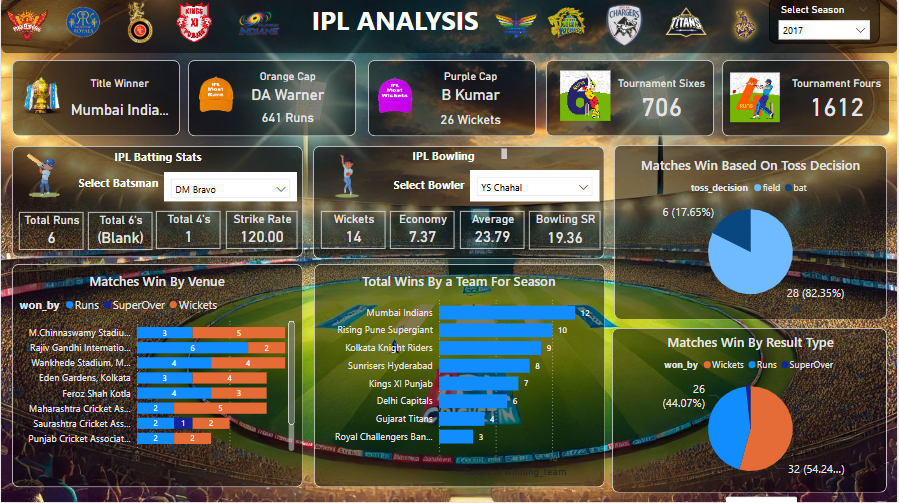

This screenshot's page, from the dashboard's own definition file:
{"tool":"powerbi","page":{"name":"Page 1","canvas":[1280,720],"ordinal":0},"visuals":[{"type":"shape","box":[0,0,1281.3,79.4],"z":0},{"type":"shape","box":[15,88.3,240,108.3],"z":1000},{"type":"textbox","box":[423.8,0,277.8,62.4],"z":2000},{"type":"slicer","fields":{"Values":["Calender Table.Year"]},"box":[1097.8,0,157.8,65],"z":3000},{"type":"card","title":"Title Winner","fields":{"Values":["ipl_matches_2008_2022.Title Winner"]},"box":[95,112,150.2,76.5],"z":4000},{"type":"shape","box":[267,88,240,108.9],"z":5000},{"type":"shape","box":[523.6,88,240,108.9],"z":6000},{"type":"shape","box":[778.7,88,240,108.9],"z":7000},{"type":"shape","box":[1029.4,88,240,108.9],"z":8000},{"type":"card","title":"Orange Cap","fields":{"Values":["Min(ipl_ball_by_ball_2008_2022.batter)"]},"box":[334.5,102,150.2,55.3],"z":9000},{"type":"card","title":"Orange Cap","fields":{"Values":["ipl_ball_by_ball_2008_2022.Batter Runes"]},"box":[333.9,152.1,150.3,40.8],"z":10000},{"type":"card","title":"Purple Cap","fields":{"Values":["Min(ipl_ball_by_ball_2008_2022.bowler)"]},"box":[595.3,102,150.2,55.3],"z":11000},{"type":"card","title":"Purple Cap","fields":{"Values":["ipl_ball_by_ball_2008_2022.Bowler Wickets"]},"box":[595.5,152.1,150.3,46.4],"z":12000},{"type":"card","title":"Tournament Sixes","fields":{"Values":["CountNonNull(ipl_ball_by_ball_2008_2022.batsman_run)"]},"box":[868.2,111.3,150.3,64.9],"z":13000},{"type":"card","title":"Tournament Fours","fields":{"Values":["CountNonNull(ipl_ball_by_ball_2008_2022.batsman_run)"]},"box":[1118.6,111.3,150.3,64.9],"z":14000},{"type":"shape","box":[15.6,211.1,415.6,158.9],"z":15000},{"type":"shape","box":[446.1,211.8,416.2,161.1],"z":16000},{"type":"slicer","fields":{"Values":["ipl_ball_by_ball_2008_2022.batter"]},"box":[233.3,248.9,190,42.2],"z":17000},{"type":"card","title":"Total Runs","fields":{"Values":["Sum(ipl_ball_by_ball_2008_2022.batsman_run)"]},"box":[25.4,305.8,92.5,53.7],"z":18000},{"type":"card","title":"Total 6''s","fields":{"Values":["CountNonNull(ipl_ball_by_ball_2008_2022.batsman_run)"]},"box":[123.8,305.8,92.5,53.7],"z":19000},{"type":"card","title":"Total 4''s","fields":{"Values":["CountNonNull(ipl_ball_by_ball_2008_2022.batsman_run)"]},"box":[221.7,304,92.4,53.8],"z":20000},{"type":"card","title":"Strike Rate","fields":{"Values":["ipl_ball_by_ball_2008_2022.Strike Rate for Batsman"]},"box":[321.1,304.4,102.2,54.4],"z":21000},{"type":"textbox","box":[100.8,248.6,132.7,42],"z":22000},{"type":"textbox","box":[134.4,211.7,179.7,31.9],"z":23000},{"type":"slicer","fields":{"Values":["ipl_ball_by_ball_2008_2022.bowler"]},"box":[670.2,245.2,184.8,45.4],"z":24000},{"type":"card","title":"Wickets","fields":{"Values":["Sum(ipl_ball_by_ball_2008_2022.iswicket_delivery)"]},"box":[456.9,304,92.4,53.8],"z":25000},{"type":"card","title":"Economy","fields":{"Values":["ipl_ball_by_ball_2008_2022.Economy"]},"box":[556,304,92.4,53.8],"z":26000},{"type":"card","title":"Average","fields":{"Values":["ipl_ball_by_ball_2008_2022.Average"]},"box":[655.1,304,92.4,53.8],"z":27000},{"type":"card","title":"Bowling SR","fields":{"Values":["ipl_ball_by_ball_2008_2022.Bowling SR"]},"box":[754.2,304,102.5,55.4],"z":28000},{"type":"textbox","box":[556,252,127.7,35.3],"z":29000},{"type":"textbox","box":[582.5,209.8,144.6,34],"z":30000},{"type":"shape","box":[875.9,209.8,389.8,249.4],"z":31000},{"type":"pieChart","title":"Matches Win Based On Toss Decision","fields":{"Y":["ipl_matches_2008_2022.Matches Win On Toss Decision"],"Category":["ipl_matches_2008_2022.toss_decision"]},"box":[883,225.4,375.6,220],"z":32000},{"type":"shape","box":[873.1,472,392.6,235.3],"z":33000},{"type":"pieChart","title":"Matches Win By Result Type","fields":{"Y":["CountNonNull(ipl_matches_2008_2022.id)"],"Category":["ipl_matches_2008_2022.won_by"]},"box":[883,479.1,375.6,219.7],"z":34000},{"type":"shape","box":[15.6,379.8,415.3,318.9],"z":35000},{"type":"barChart","title":"Matches Win By Venue","fields":{"Category":["ipl_matches_2008_2022.venue"],"Y":["CountNonNull(ipl_matches_2008_2022.id)"],"Series":["ipl_matches_2008_2022.won_by"]},"box":[21.3,391.2,402.5,297.6],"z":36000},{"type":"shape","box":[446.5,379.8,415.3,318.9],"z":37000},{"type":"barChart","title":"Total Wins By a Team For Season","fields":{"Category":["ipl_matches_2008_2022.winning_team"],"Y":["CountNonNull(ipl_matches_2008_2022.winning_team)"]},"box":[453.5,391.2,402.5,297.6],"z":38000},{"type":"image","box":[15.6,87.9,87.9,104.9],"z":39000},{"type":"image","box":[276.4,85,64,104],"z":40000},{"type":"image","box":[531.5,86.5,63.8,103.5],"z":41000},{"type":"image","box":[785.2,99.2,97.8,82.2],"z":42000},{"type":"image","box":[1029,102,96.4,80.8],"z":43000},{"type":"image","box":[5.7,198.4,110,110],"z":44000},{"type":"image","box":[439.4,199.8,109.1,109.1],"z":45000},{"type":"image","box":[772.4,0,70,70],"z":46000},{"type":"image","box":[856.1,4.3,69.4,69.4],"z":47000},{"type":"image","box":[943.9,0,69.4,69.4],"z":48000},{"type":"image","box":[1029,4.3,69.4,69.4],"z":49000},{"type":"image","box":[701.6,4.3,69.4,69.4],"z":50000},{"type":"image","box":[334.5,0,69.4,69.4],"z":51000},{"type":"image","box":[240.9,0,69.4,69.4],"z":52000},{"type":"image","box":[164.4,0,69.4,69.4],"z":53000},{"type":"image","box":[80.8,0,69.4,69.4],"z":54000},{"type":"image","box":[2.8,4.3,69.4,69.4],"z":55000}]}

Visuals, with their boxes in screenshot pixels (x1, y1, x2, y2), scaled from the page's 1280x720 canvas onto the 899x503 screenshot:
shape: {"x1": 0, "y1": 0, "x2": 898, "y2": 55}
shape: {"x1": 11, "y1": 62, "x2": 179, "y2": 137}
textbox: {"x1": 298, "y1": 0, "x2": 493, "y2": 44}
slicer - Calender Table.Year: {"x1": 771, "y1": 0, "x2": 882, "y2": 45}
"Title Winner" card: {"x1": 67, "y1": 78, "x2": 172, "y2": 132}
shape: {"x1": 188, "y1": 61, "x2": 356, "y2": 138}
shape: {"x1": 368, "y1": 61, "x2": 536, "y2": 138}
shape: {"x1": 547, "y1": 61, "x2": 715, "y2": 138}
shape: {"x1": 723, "y1": 61, "x2": 892, "y2": 138}
"Orange Cap" card: {"x1": 235, "y1": 71, "x2": 340, "y2": 110}
"Orange Cap" card: {"x1": 235, "y1": 106, "x2": 340, "y2": 135}
"Purple Cap" card: {"x1": 418, "y1": 71, "x2": 524, "y2": 110}
"Purple Cap" card: {"x1": 418, "y1": 106, "x2": 524, "y2": 139}
"Tournament Sixes" card: {"x1": 610, "y1": 78, "x2": 715, "y2": 123}
"Tournament Fours" card: {"x1": 786, "y1": 78, "x2": 891, "y2": 123}
shape: {"x1": 11, "y1": 147, "x2": 303, "y2": 258}
shape: {"x1": 313, "y1": 148, "x2": 606, "y2": 261}
slicer - ipl_ball_by_ball_2008_2022.batter: {"x1": 164, "y1": 174, "x2": 297, "y2": 203}
"Total Runs" card: {"x1": 18, "y1": 214, "x2": 83, "y2": 251}
"Total 6''s" card: {"x1": 87, "y1": 214, "x2": 152, "y2": 251}
"Total 4''s" card: {"x1": 156, "y1": 212, "x2": 221, "y2": 250}
"Strike Rate" card: {"x1": 226, "y1": 213, "x2": 297, "y2": 251}
textbox: {"x1": 71, "y1": 174, "x2": 164, "y2": 203}
textbox: {"x1": 94, "y1": 148, "x2": 221, "y2": 170}
slicer - ipl_ball_by_ball_2008_2022.bowler: {"x1": 471, "y1": 171, "x2": 601, "y2": 203}
"Wickets" card: {"x1": 321, "y1": 212, "x2": 386, "y2": 250}
"Economy" card: {"x1": 391, "y1": 212, "x2": 455, "y2": 250}
"Average" card: {"x1": 460, "y1": 212, "x2": 525, "y2": 250}
"Bowling SR" card: {"x1": 530, "y1": 212, "x2": 602, "y2": 251}
textbox: {"x1": 391, "y1": 176, "x2": 480, "y2": 201}
textbox: {"x1": 409, "y1": 147, "x2": 511, "y2": 170}
shape: {"x1": 615, "y1": 147, "x2": 889, "y2": 321}
"Matches Win Based On Toss Decision" pieChart: {"x1": 620, "y1": 157, "x2": 884, "y2": 311}
shape: {"x1": 613, "y1": 330, "x2": 889, "y2": 494}
"Matches Win By Result Type" pieChart: {"x1": 620, "y1": 335, "x2": 884, "y2": 488}
shape: {"x1": 11, "y1": 265, "x2": 303, "y2": 488}
"Matches Win By Venue" barChart: {"x1": 15, "y1": 273, "x2": 298, "y2": 481}
shape: {"x1": 314, "y1": 265, "x2": 605, "y2": 488}
"Total Wins By a Team For Season" barChart: {"x1": 319, "y1": 273, "x2": 601, "y2": 481}
image: {"x1": 11, "y1": 61, "x2": 73, "y2": 135}
image: {"x1": 194, "y1": 59, "x2": 239, "y2": 132}
image: {"x1": 373, "y1": 60, "x2": 418, "y2": 133}
image: {"x1": 551, "y1": 69, "x2": 620, "y2": 127}
image: {"x1": 723, "y1": 71, "x2": 790, "y2": 128}
image: {"x1": 4, "y1": 139, "x2": 81, "y2": 215}
image: {"x1": 309, "y1": 140, "x2": 385, "y2": 216}
image: {"x1": 542, "y1": 0, "x2": 592, "y2": 49}
image: {"x1": 601, "y1": 3, "x2": 650, "y2": 51}
image: {"x1": 663, "y1": 0, "x2": 712, "y2": 48}
image: {"x1": 723, "y1": 3, "x2": 771, "y2": 51}
image: {"x1": 493, "y1": 3, "x2": 542, "y2": 51}
image: {"x1": 235, "y1": 0, "x2": 284, "y2": 48}
image: {"x1": 169, "y1": 0, "x2": 218, "y2": 48}
image: {"x1": 115, "y1": 0, "x2": 164, "y2": 48}
image: {"x1": 57, "y1": 0, "x2": 105, "y2": 48}
image: {"x1": 2, "y1": 3, "x2": 51, "y2": 51}
